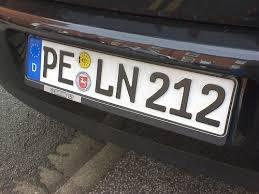Liscence Plate: (30, 34, 229, 136)
